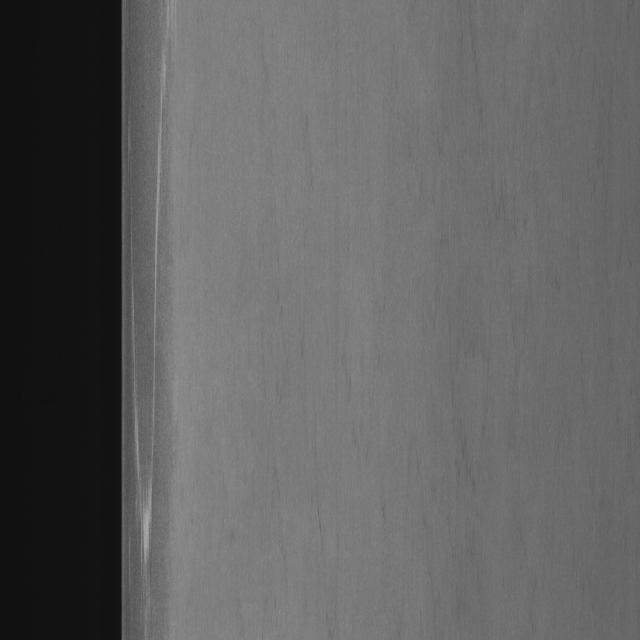inclusion: (126, 2, 211, 574)
